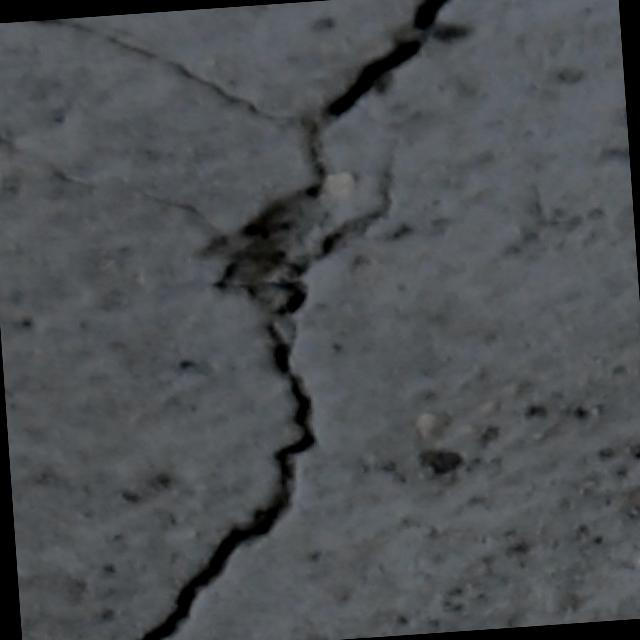crack: (101, 311, 342, 640), (282, 0, 489, 180), (37, 2, 289, 146), (0, 111, 187, 224)
spall: (184, 174, 403, 318)
